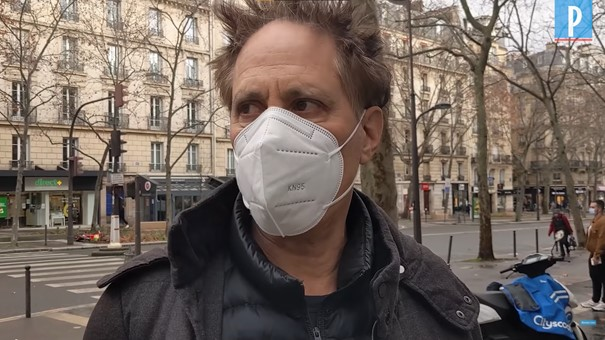with_mask: (222, 73, 369, 244)
